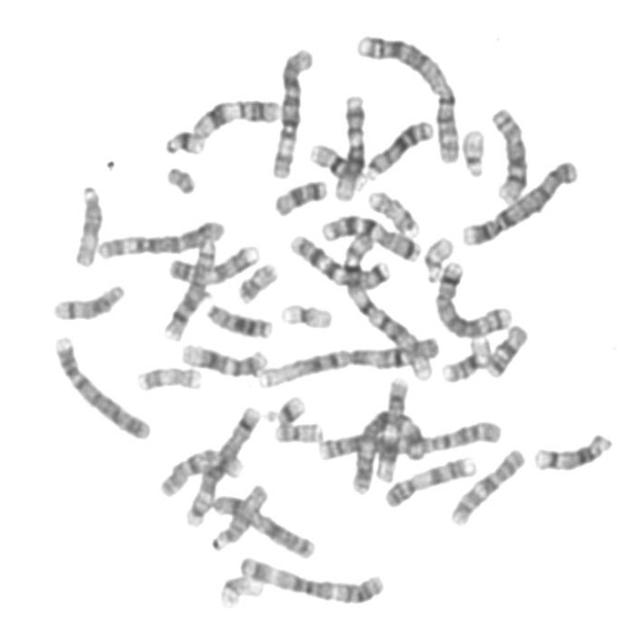A1: (337, 220, 438, 378), (251, 329, 441, 391)
A2: (351, 28, 463, 166), (308, 412, 504, 463)
A3: (233, 549, 387, 606), (351, 406, 430, 501)
B4: (456, 152, 582, 249), (47, 328, 154, 442)
B5: (180, 398, 265, 529), (429, 253, 516, 339)
C10: (444, 441, 528, 528), (154, 442, 246, 500)
C11: (369, 370, 412, 484), (185, 91, 284, 140)
C12: (329, 88, 368, 202), (175, 336, 270, 378)
C6: (264, 40, 316, 180), (91, 212, 227, 261)
C7: (284, 227, 392, 290), (315, 207, 423, 264)
C8: (158, 234, 218, 342), (484, 99, 531, 205)
C9: (378, 449, 478, 509), (162, 235, 263, 286)
D13: (360, 112, 436, 181), (199, 295, 275, 340)
D14: (528, 426, 616, 474), (46, 276, 128, 323)
D15: (205, 477, 271, 552), (67, 178, 105, 268)
E16: (304, 134, 369, 190), (436, 330, 494, 384)
E17: (362, 184, 422, 238), (131, 358, 204, 394)
E18: (480, 317, 530, 378), (268, 172, 329, 218)
F19: (276, 294, 336, 332), (213, 569, 264, 611)
F20: (232, 255, 280, 304), (269, 414, 326, 444)
G21: (259, 388, 307, 425), (158, 122, 207, 156)
G22: (418, 229, 456, 283), (456, 121, 488, 179)
X: (206, 486, 318, 560)
Y: (160, 157, 198, 195)
